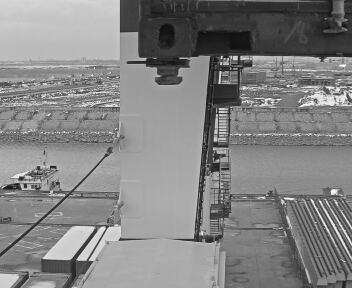twist_lock_1: (138, 50, 195, 94)
